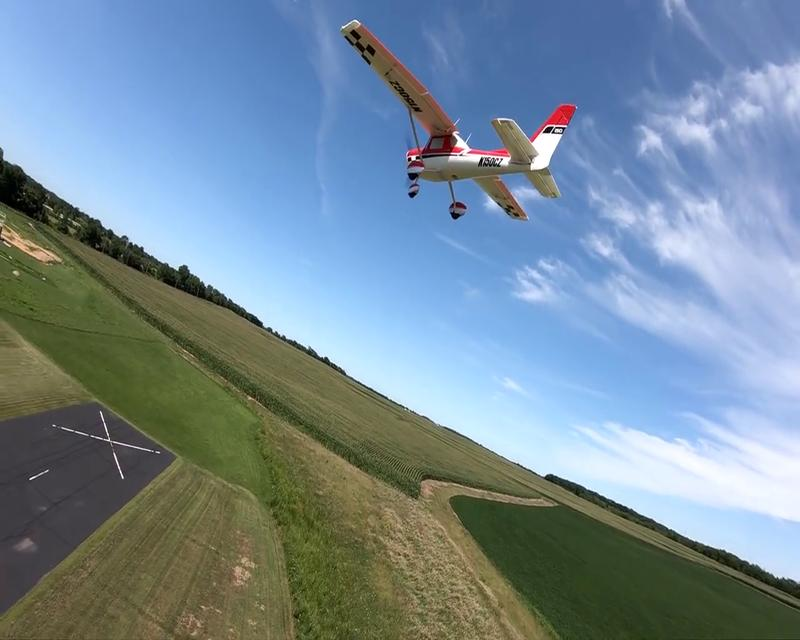UAV: (339, 16, 576, 224)
